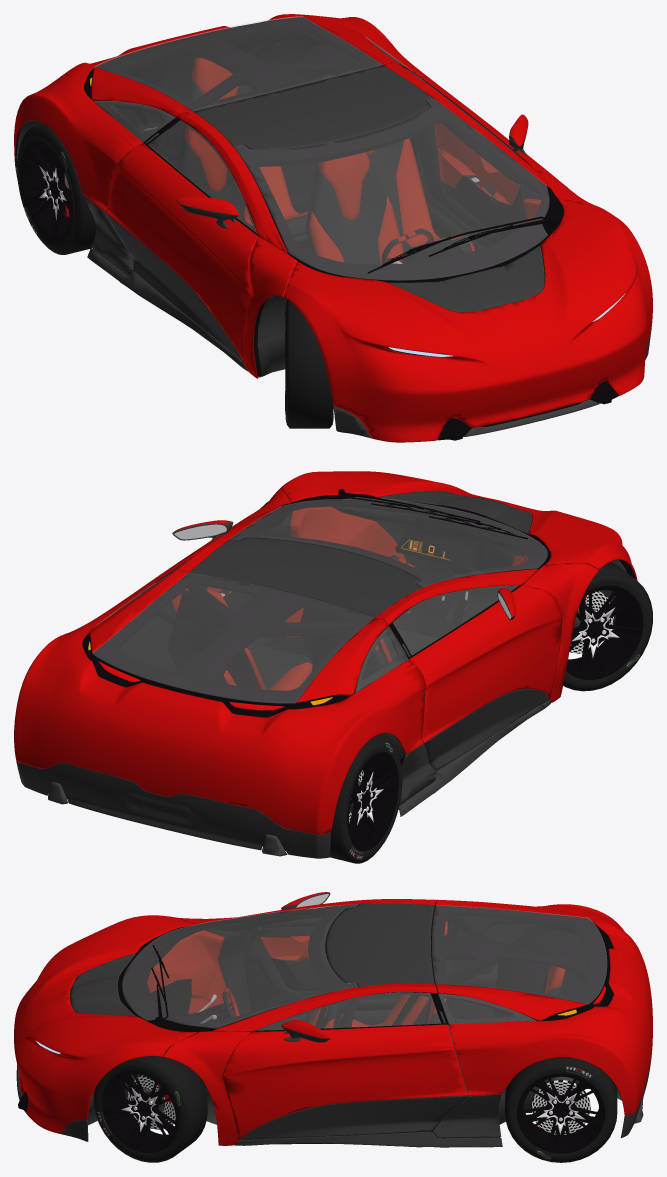
Rendered from CarConcept-d.glb.
3 renders of one model, top to bottom at view 1: azimuth 30°, elevation 25°; view 2: azimuth 150°, elevation 25°; view 3: azimuth 270°, elevation 25°, orthographic. The views are drawn at different scales.
Visible parts, largest first — view 1: BodyHood, BodyWindshield, BodyRearwindow, BodyDoorRColor1, BodyRearPanelsColor1, BodyRoofPanel, BodyWindshieldGasket, InteriorSeatsColor1, InteriorSeatsColor2, BodyPillars, InteriorPillar, InteriorRearHatch (+21 smaller); view 2: BodyRearPanelsColor1, BodyRearwindow, BodyWindshield, BodyPanelsColor2, BodyDoorRColor1, BodyRoofPanel, BodyHood, InteriorRearHatch, BodyPillars, InteriorPillar, BodyWindshieldGasket, InteriorDashMid (+21 smaller); view 3: BodyRearPanelsColor1, BodyWindshield, BodyDoorLColor1, BodyHood, BodyRearwindow, BodyRoofPanel, BodyPillars, BodyWindshieldGasket, BodyDoorLColor2, BodyPanelsColor2, WheelFrontL, InteriorRearHatch (+25 smaller).
Part boxes in pixels (<box>): BodyHood: <box>283,198,652,442</box>; BodyWindshield: <box>234,98,549,280</box>; BodyRearwindow: <box>95,16,382,110</box>; BodyDoorRColor1: <box>104,143,257,363</box>; BodyRearPanelsColor1: <box>14,14,428,210</box>; BodyRoofPanel: <box>193,65,432,150</box>; BodyWindshieldGasket: <box>234,99,563,282</box>; InteriorSeatsColor1: <box>185,57,475,264</box>; InteriorSeatsColor2: <box>180,78,472,264</box>; BodyPillars: <box>176,61,598,378</box>; InteriorPillar: <box>158,37,434,168</box>; InteriorRearHatch: <box>93,17,383,117</box>; BodyRearPanelsColor1: <box>14,569,425,834</box>; BodyRearwindow: <box>92,573,373,703</box>; BodyWindshield: <box>229,497,547,587</box>; BodyPanelsColor2: <box>16,700,550,858</box>; BodyDoorRColor1: <box>409,585,562,742</box>; BodyRoofPanel: <box>189,537,422,617</box>; BodyHood: <box>279,471,637,580</box>; InteriorRearHatch: <box>93,573,386,707</box>; BodyPillars: <box>175,489,599,702</box>; InteriorPillar: <box>174,574,417,682</box>; BodyWindshieldGasket: <box>230,497,550,587</box>; InteriorDashMid: <box>331,503,528,622</box>; BodyRearPanelsColor1: <box>436,899,652,1115</box>; BodyWindshield: <box>122,904,357,1028</box>; BodyDoorLColor1: <box>222,1024,467,1139</box>; BodyHood: <box>14,915,196,1133</box>; BodyRearwindow: <box>432,905,606,1003</box>; BodyRoofPanel: <box>326,903,434,986</box>; BodyPillars: <box>163,899,437,1145</box>; BodyWindshieldGasket: <box>118,905,357,1032</box>; BodyDoorLColor2: <box>240,1096,467,1140</box>; BodyPanelsColor2: <box>16,1050,652,1147</box>; WheelFrontL: <box>93,1054,207,1162</box>; InteriorRearHatch: <box>431,905,606,1020</box>.
Size of the model in its own units: 2.54 by 1.15 by 4.36.
Materials: 22 (5 with a texture image).
